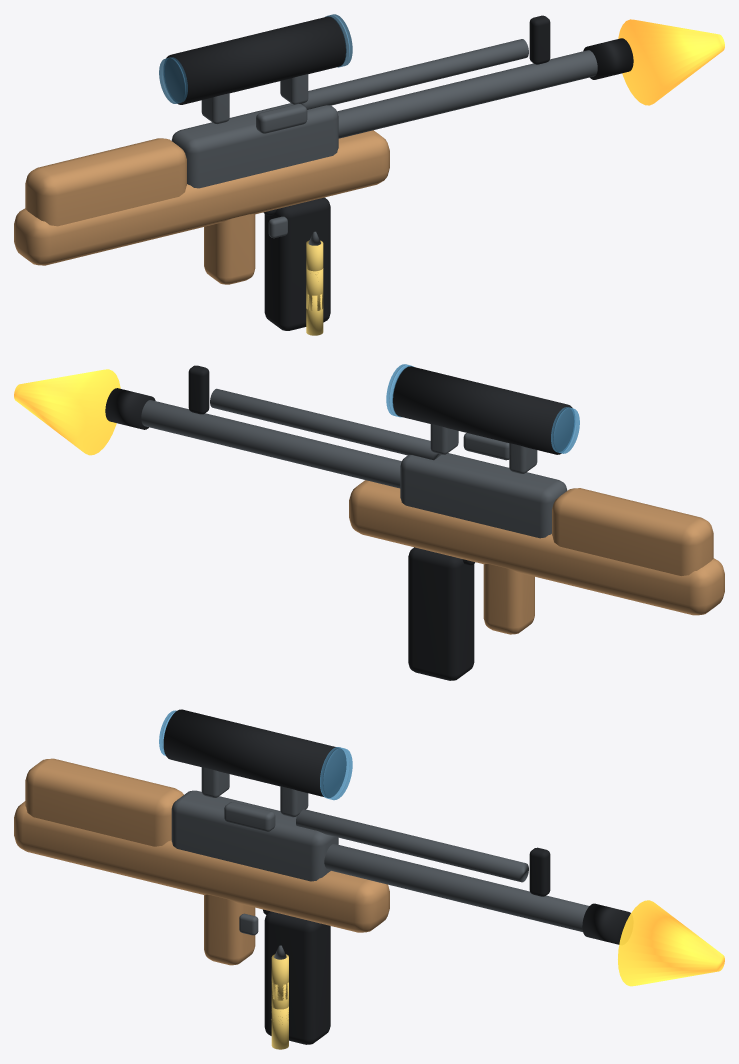
Rendered from cartoon_m14.glb.
The picture shows the model from 3 angles, top to bottom: view 1: azimuth 30°, elevation 25°; view 2: azimuth 150°, elevation 25°; view 3: azimuth 330°, elevation 25°; orthographic projection.
Parts seen in each view (by area): view 1: m14_full_wood_stock, m14_stock, m14_scope_tube, m14_receiver, m14_barrel, m14_magazine_body, m14_muzzle_flash_socket_hidden, m14_top_barrel_shroud, m14_grip, m14_muzzle, m14_charging_handle, m14_scope_lens_rear (+5 smaller); view 2: m14_full_wood_stock, m14_stock, m14_receiver, m14_scope_tube, m14_magazine_body, m14_barrel, m14_muzzle_flash_socket_hidden, m14_top_barrel_shroud, m14_grip, m14_muzzle, m14_scope_lens_rear, m14_front_sight (+3 smaller); view 3: m14_full_wood_stock, m14_scope_tube, m14_stock, m14_receiver, m14_barrel, m14_magazine_body, m14_muzzle_flash_socket_hidden, m14_top_barrel_shroud, m14_grip, m14_muzzle, m14_scope_lens_front, m14_charging_handle (+5 smaller).
Part boxes in pixels (x1=…): m14_full_wood_stock: x1=14, y1=130, x2=389, y2=265; m14_stock: x1=25, y1=138, x2=186, y2=226; m14_scope_tube: x1=164, y1=16, x2=346, y2=104; m14_receiver: x1=171, y1=103, x2=338, y2=188; m14_barrel: x1=337, y1=50, x2=597, y2=138; m14_magazine_body: x1=264, y1=197, x2=330, y2=330; m14_muzzle_flash_socket_hidden: x1=618, y1=19, x2=724, y2=105; m14_top_barrel_shroud: x1=301, y1=39, x2=528, y2=109; m14_grip: x1=204, y1=214, x2=255, y2=284; m14_muzzle: x1=583, y1=38, x2=633, y2=79; m14_charging_handle: x1=256, y1=103, x2=307, y2=133; m14_scope_lens_rear: x1=159, y1=57, x2=187, y2=103; m14_full_wood_stock: x1=349, y1=480, x2=724, y2=615; m14_stock: x1=552, y1=488, x2=713, y2=575; m14_receiver: x1=400, y1=453, x2=567, y2=538; m14_scope_tube: x1=392, y1=366, x2=574, y2=454; m14_magazine_body: x1=408, y1=547, x2=474, y2=680; m14_barrel: x1=141, y1=400, x2=401, y2=488; m14_muzzle_flash_socket_hidden: x1=14, y1=369, x2=120, y2=455; m14_top_barrel_shroud: x1=210, y1=388, x2=441, y2=460; m14_grip: x1=483, y1=564, x2=534, y2=634; m14_muzzle: x1=105, y1=388, x2=155, y2=429; m14_scope_lens_rear: x1=551, y1=407, x2=579, y2=453; m14_front_sight: x1=188, y1=365, x2=209, y2=414; m14_full_wood_stock: x1=14, y1=801, x2=389, y2=932; m14_scope_tube: x1=163, y1=709, x2=346, y2=797; m14_stock: x1=25, y1=758, x2=183, y2=846; m14_receiver: x1=171, y1=790, x2=338, y2=881; m14_barrel: x1=324, y1=844, x2=588, y2=931; m14_magazine_body: x1=264, y1=911, x2=330, y2=1044; m14_muzzle_flash_socket_hidden: x1=618, y1=900, x2=724, y2=986; m14_top_barrel_shroud: x1=296, y1=809, x2=528, y2=882; m14_grip: x1=204, y1=894, x2=255, y2=965; m14_muzzle: x1=582, y1=903, x2=630, y2=944; m14_scope_lens_front: x1=320, y1=747, x2=352, y2=800; m14_charging_handle: x1=224, y1=802, x2=275, y2=831.
Bounding box in the file's own units: 3.29 × 1.33 × 0.36.
